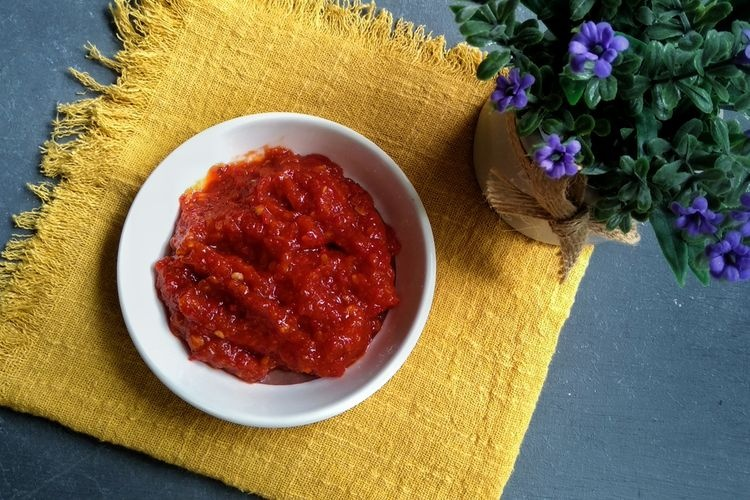sambal: (150, 146, 399, 384)
